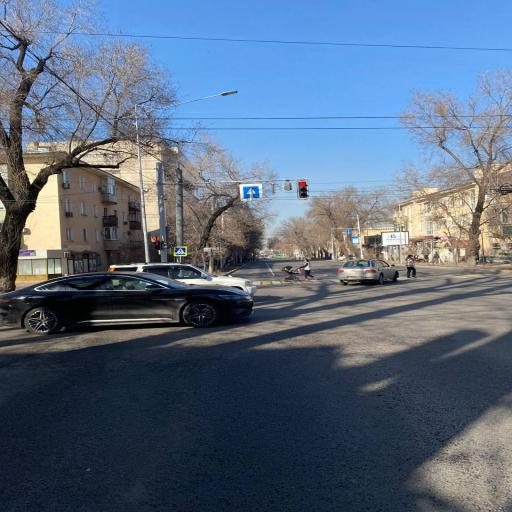book: (337, 258, 399, 286)
chair: (252, 274, 486, 286)
crosswalk: (299, 258, 316, 282)
people: (281, 266, 300, 282)
pole: (296, 180, 310, 200)
